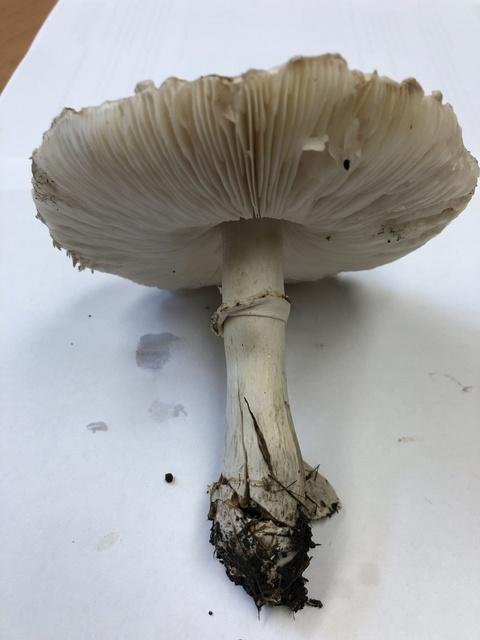poisonous_mushroom: (28, 50, 478, 617)
